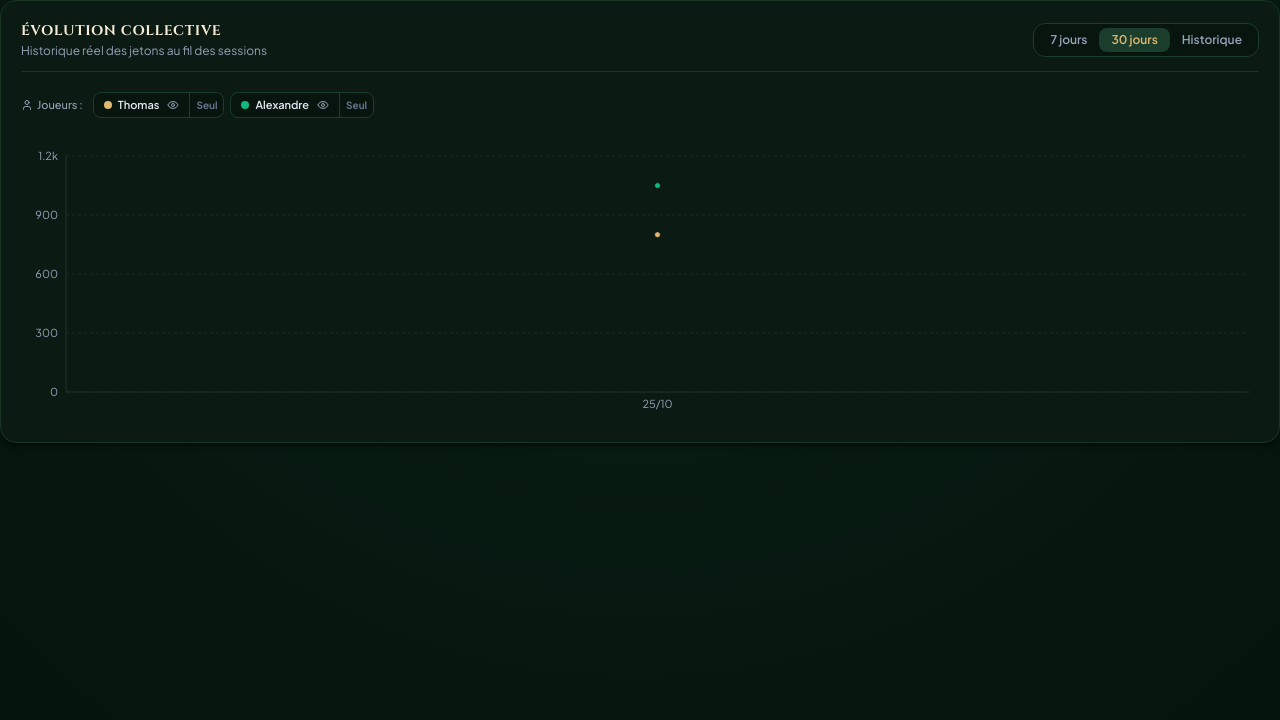
PokerTrendChart - Graphique multi-joueurs › permet de basculer la visibilité d’un joueur au clic
The image size is (1280, 720).
Click the button titled "Masquer Thomas": (142, 105) top-left (94, 93), bottom-right (189, 117)
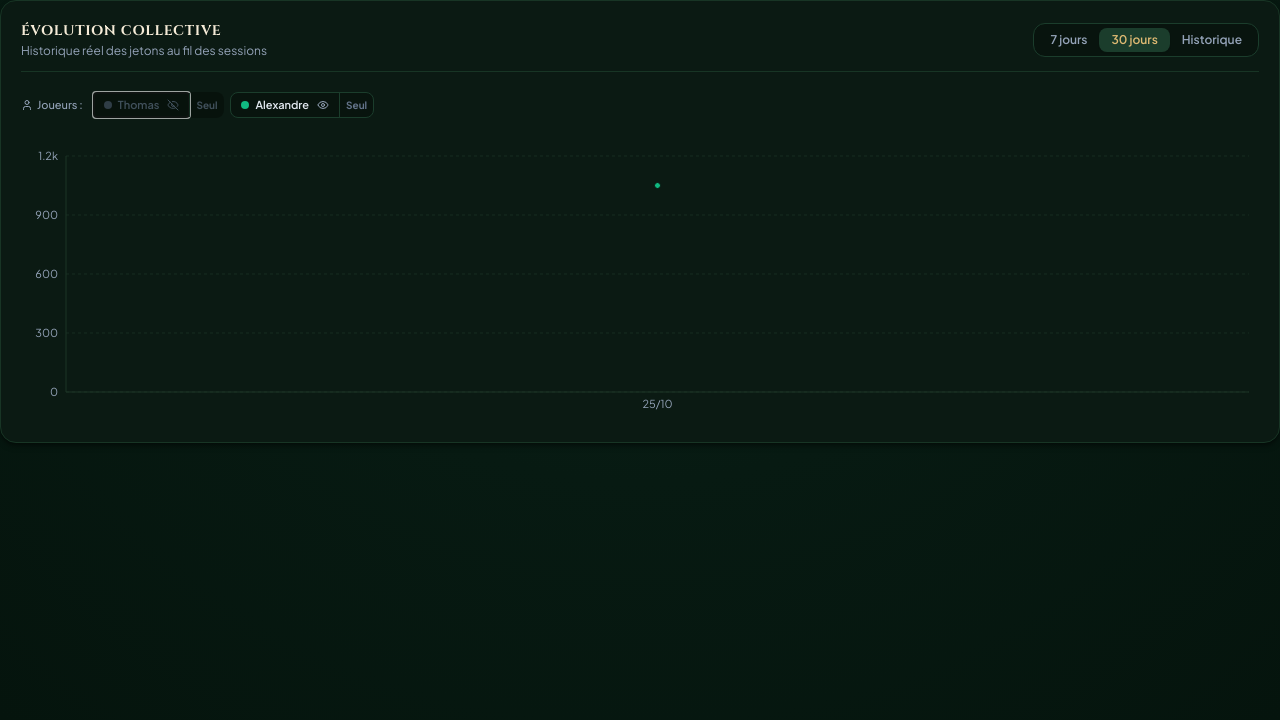
Expected: the button titled "Afficher Thomas" is shown, top-left (94, 93), bottom-right (189, 117)
